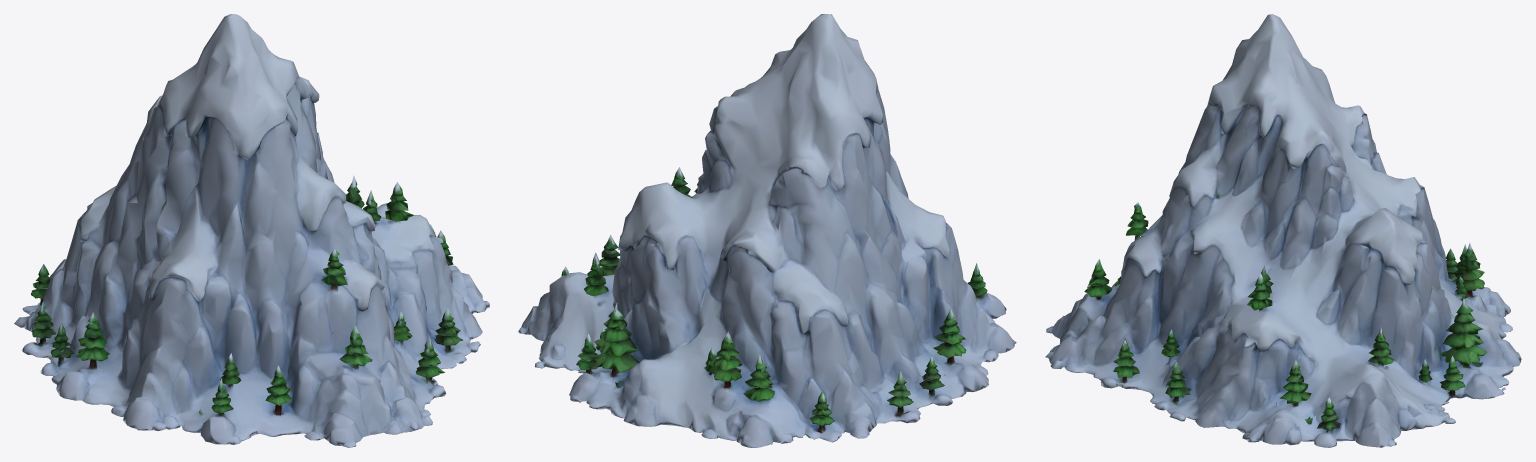
Rendered from peak.glb.
3 views of the same model, side by side, from view 1: azimuth 30°, elevation 25°; view 2: azimuth 150°, elevation 25°; view 3: azimuth 270°, elevation 25° (orthographic). The views are drawn at different scales.
Parts seen in each view (by area): view 1: tripo_node_1a77f6a4-b920-4577-9f8b-aba6ee8f6b9a; view 2: tripo_node_1a77f6a4-b920-4577-9f8b-aba6ee8f6b9a; view 3: tripo_node_1a77f6a4-b920-4577-9f8b-aba6ee8f6b9a.
Part boxes in pixels (bbox=[...]): tripo_node_1a77f6a4-b920-4577-9f8b-aba6ee8f6b9a: bbox=[14, 14, 489, 447]; tripo_node_1a77f6a4-b920-4577-9f8b-aba6ee8f6b9a: bbox=[518, 14, 1016, 447]; tripo_node_1a77f6a4-b920-4577-9f8b-aba6ee8f6b9a: bbox=[1045, 14, 1521, 447].
Bounding box in the file's own units: 0.958 × 0.7357 × 1.
Materials: 1 (1 with a texture image).
